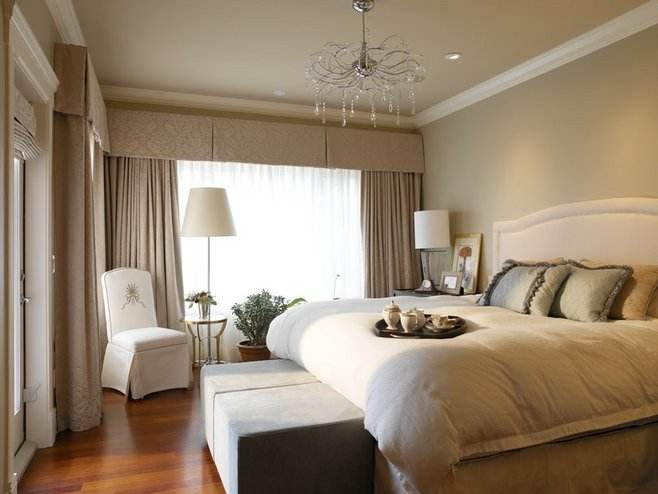床: (271, 299, 655, 469)
枕头: (487, 258, 635, 320)
灯: (305, 4, 424, 131), (179, 185, 239, 341), (413, 205, 455, 290), (444, 51, 467, 65), (272, 87, 289, 98)
